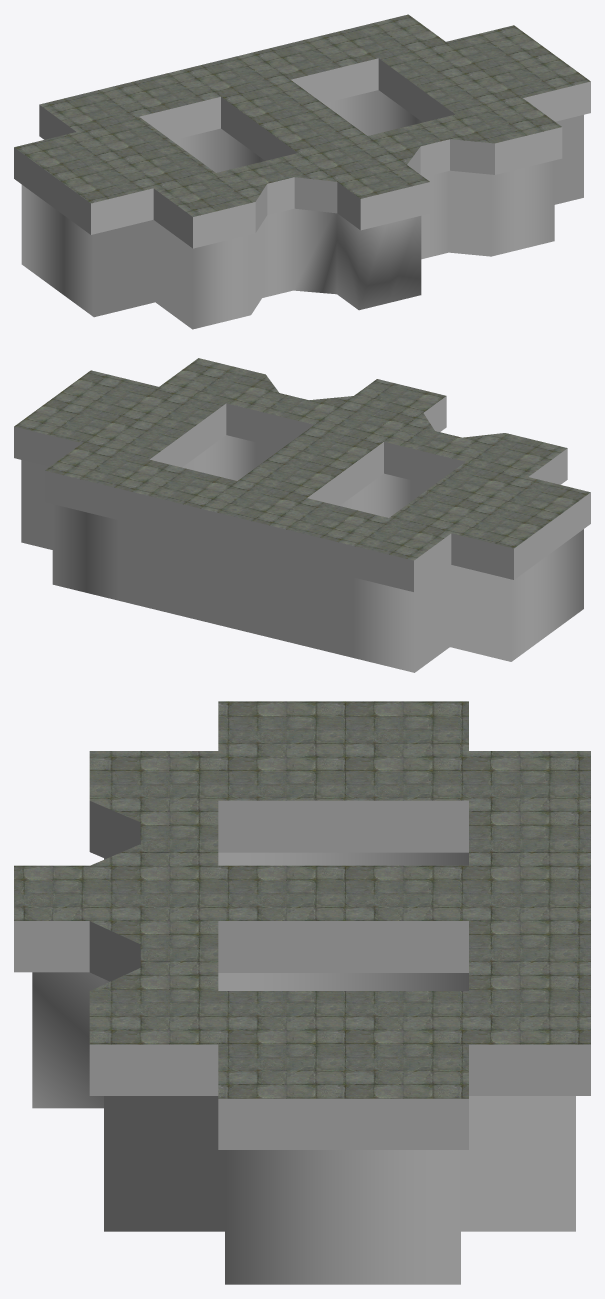
Rendered from environment_Building_shitai_008_b.FBX.
3 renders of one model, top to bottom at view 1: azimuth 30°, elevation 25°; view 2: azimuth 150°, elevation 25°; view 3: azimuth 270°, elevation 25°, orthographic. The views are drawn at different scales.
Parts seen in each view (by area): view 1: environment_Building_shitai_008_b01, environment_Building_shitai_008_b03, environment_Building_shitai_008_b02; view 2: environment_Building_shitai_008_b01, environment_Building_shitai_008_b03, environment_Building_shitai_008_b02; view 3: environment_Building_shitai_008_b01, environment_Building_shitai_008_b03, environment_Building_shitai_008_b02.
Part boxes in pixels (x1=…): environment_Building_shitai_008_b01: x1=14, y1=14, x2=590, y2=216; environment_Building_shitai_008_b03: x1=21, y1=90, x2=583, y2=329; environment_Building_shitai_008_b02: x1=14, y1=58, x2=590, y2=248; environment_Building_shitai_008_b01: x1=14, y1=358, x2=590, y2=560; environment_Building_shitai_008_b03: x1=21, y1=435, x2=583, y2=672; environment_Building_shitai_008_b02: x1=14, y1=396, x2=590, y2=591; environment_Building_shitai_008_b01: x1=14, y1=701, x2=590, y2=1098; environment_Building_shitai_008_b03: x1=32, y1=852, x2=575, y2=1284; environment_Building_shitai_008_b02: x1=14, y1=800, x2=590, y2=1149.
Bounding box in the file's own units: 4637 × 1034 × 2844.
